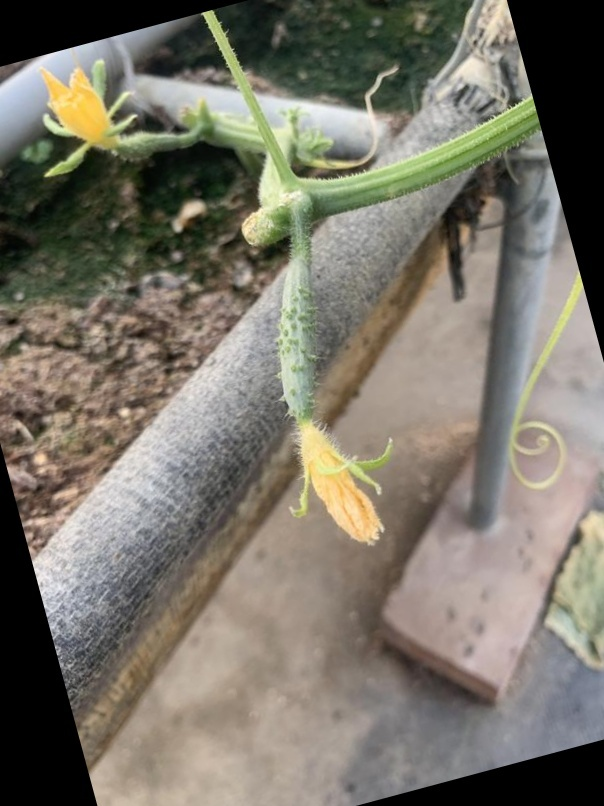bear: (253, 239, 396, 544), (41, 58, 202, 186)
